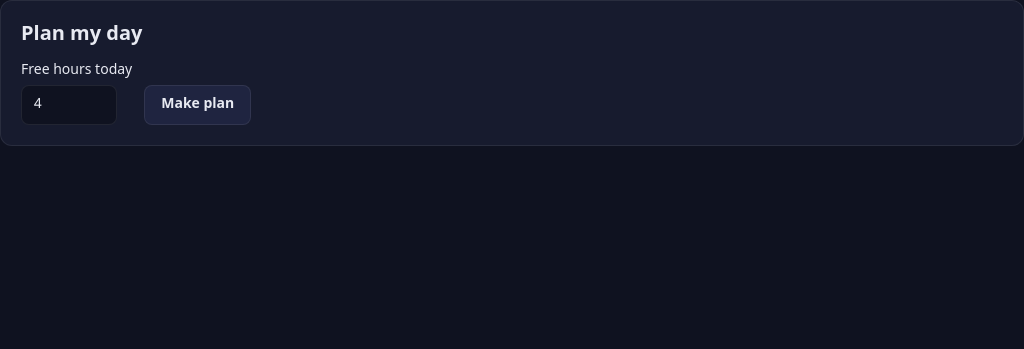
it: PlanCard › commits the plan and confirms it
The image size is (1024, 349).
What coordinates should you click on to do the following:
click the button "Make plan"
I would click on:
 (198, 105)
Its box is [144,85,251,125].
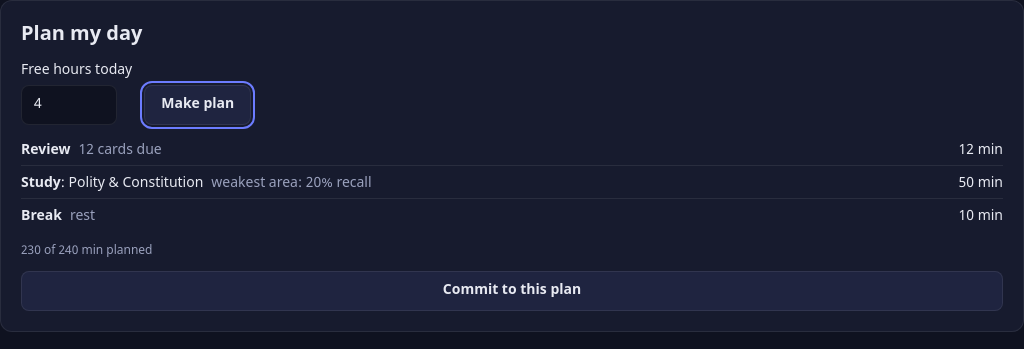
What coordinates should you click on to do the following:
click the button "Commit to this plan"
I would click on:
 (512, 291)
Its box is [21,271,1003,311].
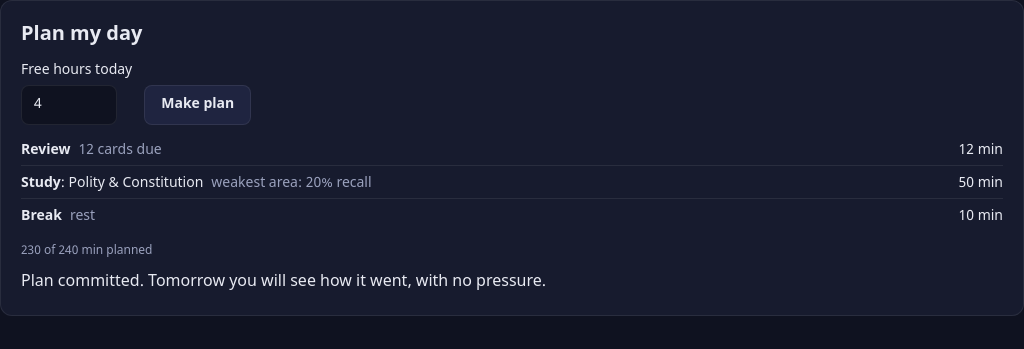
Now the text "Plan committed. Tomorrow you will see how it went, with no pressure." is shown, box [21,272,546,293]
